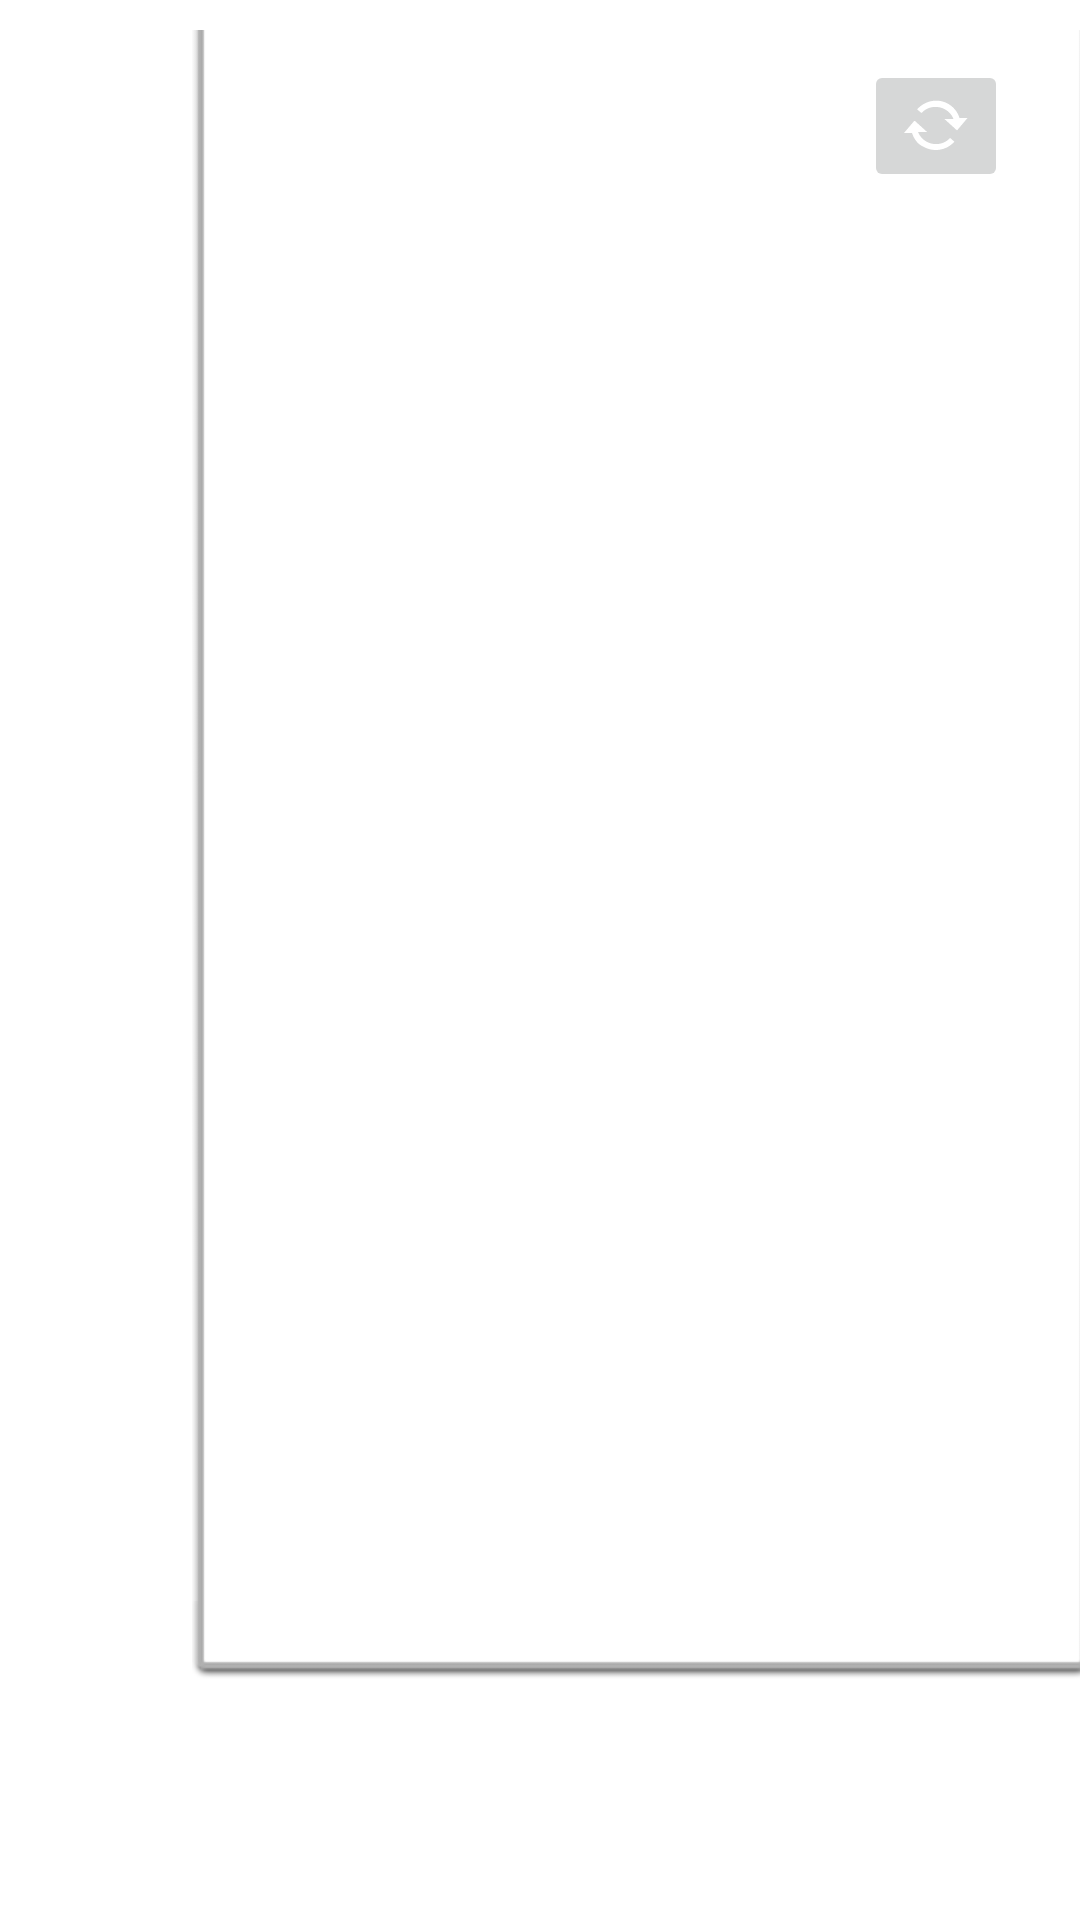

Icon click points for this 1080px×1920px phone screenshot, format (x=x, y=y):
sync: (x=936, y=126)
